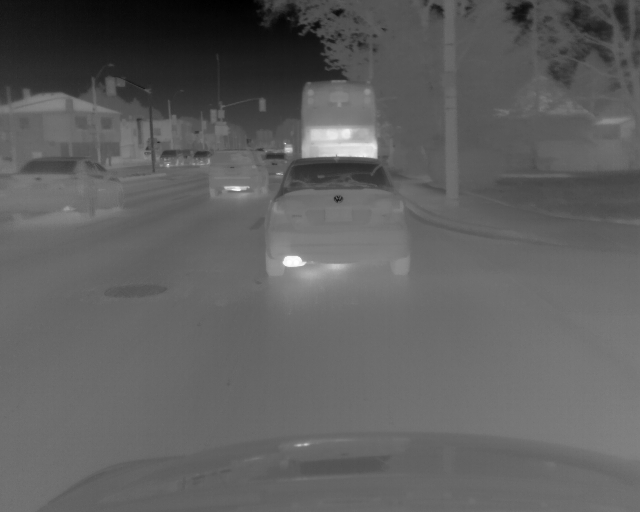car: (263, 157, 413, 280), (1, 155, 127, 219), (300, 79, 377, 160), (207, 150, 269, 197), (263, 150, 286, 175), (157, 149, 183, 168), (193, 149, 209, 166), (182, 149, 193, 165), (284, 143, 294, 155)
